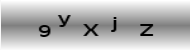9: (37, 24, 52, 38)
X: (82, 22, 99, 38)
Z: (139, 23, 154, 38)
j: (109, 15, 119, 34)
y: (56, 13, 72, 28)
